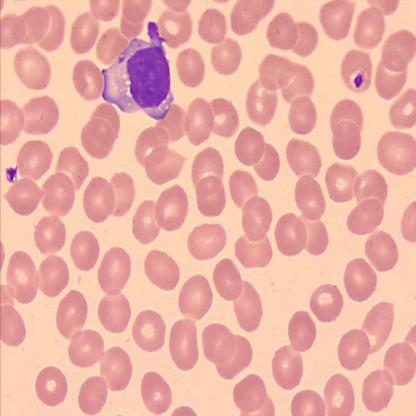Atypical lymphocyte: (102, 19, 176, 122)
